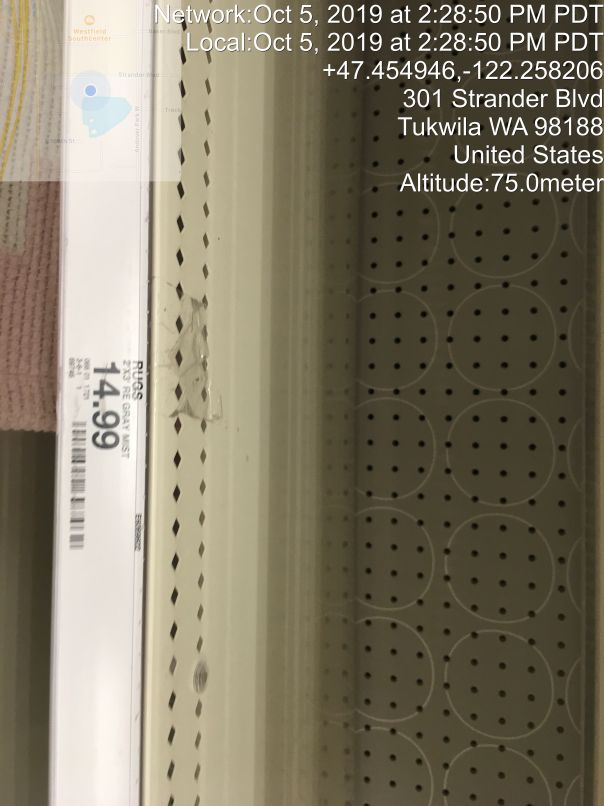Label: (56, 348, 145, 579)
Location: (391, 78, 604, 167)
Time: (149, 3, 604, 55)
Void: (187, 19, 574, 804)
